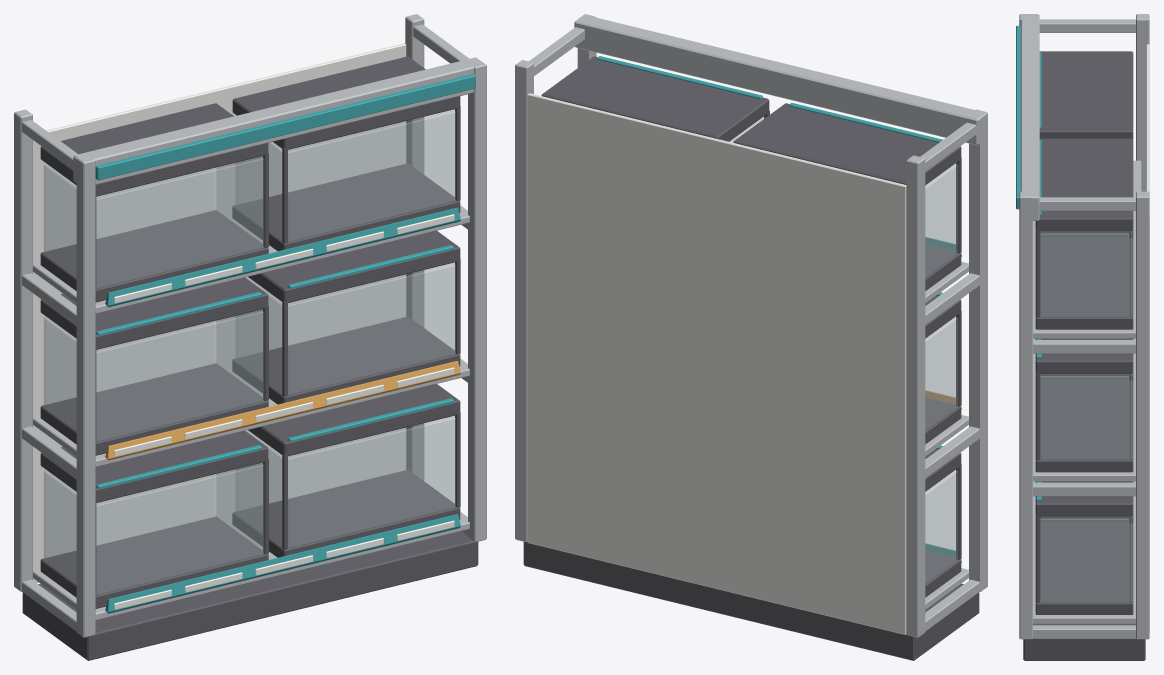
The model's file is pet-shop-and-grooming-salon-aquarium-display-rack-a0c91d77__34586.glb.
The picture shows the model from 3 angles, left to right: view 1: azimuth 30°, elevation 25°; view 2: azimuth 150°, elevation 25°; view 3: azimuth 270°, elevation 25°; orthographic projection. The views are drawn at different scales.
Visible parts, largest first — view 1: aquarium-display-rack; view 2: aquarium-display-rack; view 3: aquarium-display-rack.
Part boxes in pixels (left/top/right/bottom): aquarium-display-rack: left=14, top=14, right=486, bottom=660; aquarium-display-rack: left=515, top=14, right=987, bottom=660; aquarium-display-rack: left=1016, top=14, right=1149, bottom=660.
Bounding box in the file's own units: 1.6 × 1.9 × 0.493.
